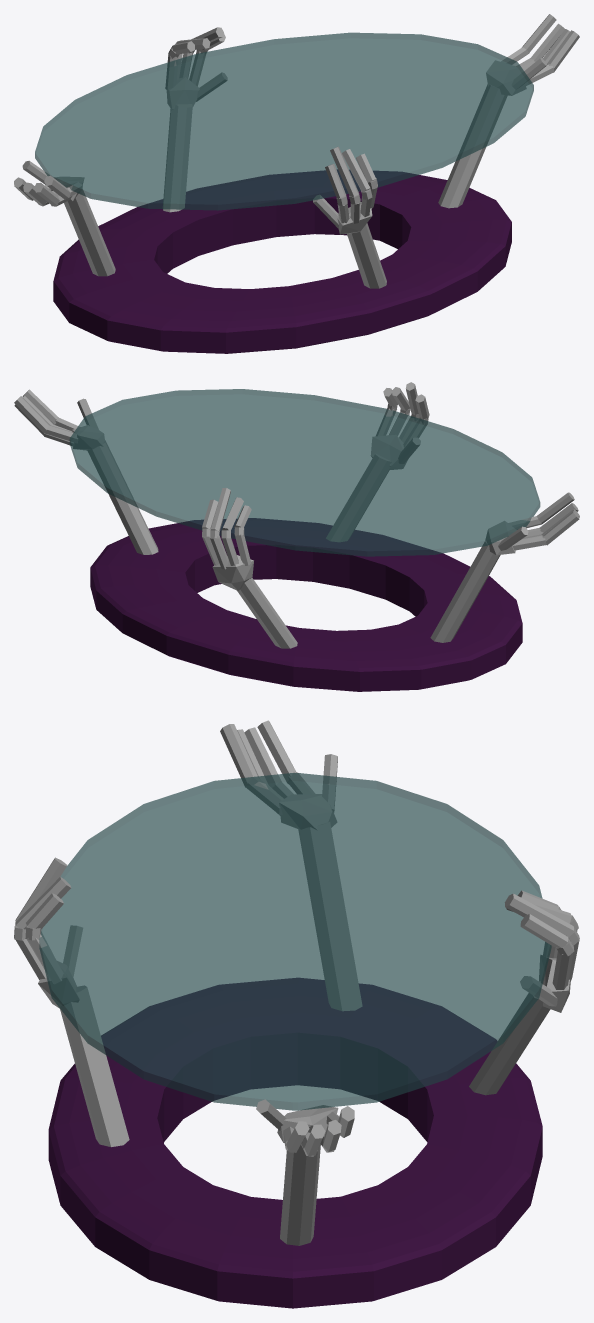
File: Skeleton table update.glb
The picture shows the model from 3 angles, top to bottom: view 1: azimuth 30°, elevation 25°; view 2: azimuth 150°, elevation 25°; view 3: azimuth 270°, elevation 25°; orthographic projection. The views are drawn at different scales.
Parts seen in each view (by area): view 1: Cube; view 2: Cube; view 3: Cube.
Part boxes in pixels (left/top/right/bottom): Cube: left=14, top=14, right=579, bottom=353; Cube: left=14, top=382, right=579, bottom=691; Cube: left=14, top=720, right=579, bottom=1308.
Bounding box in the file's own units: 1.69 × 0.5604 × 0.9888.
